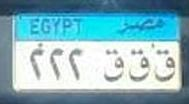2: (67, 46, 87, 81), (48, 48, 64, 81), (29, 47, 45, 80)
qaaf: (153, 48, 176, 81), (104, 49, 126, 81), (129, 49, 150, 81)
